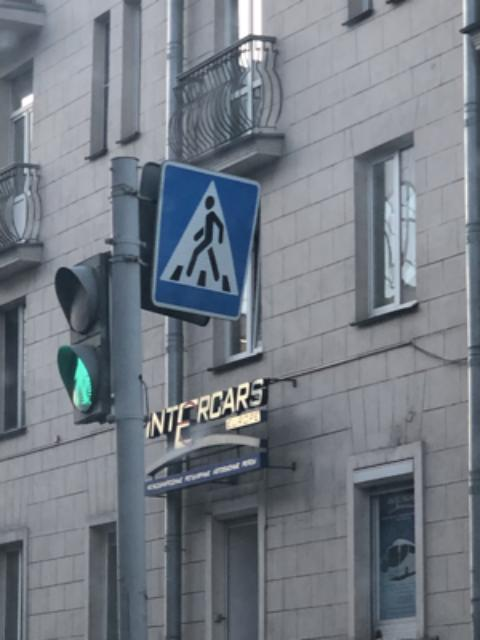crosswalk-sign: (143, 158, 263, 324)
